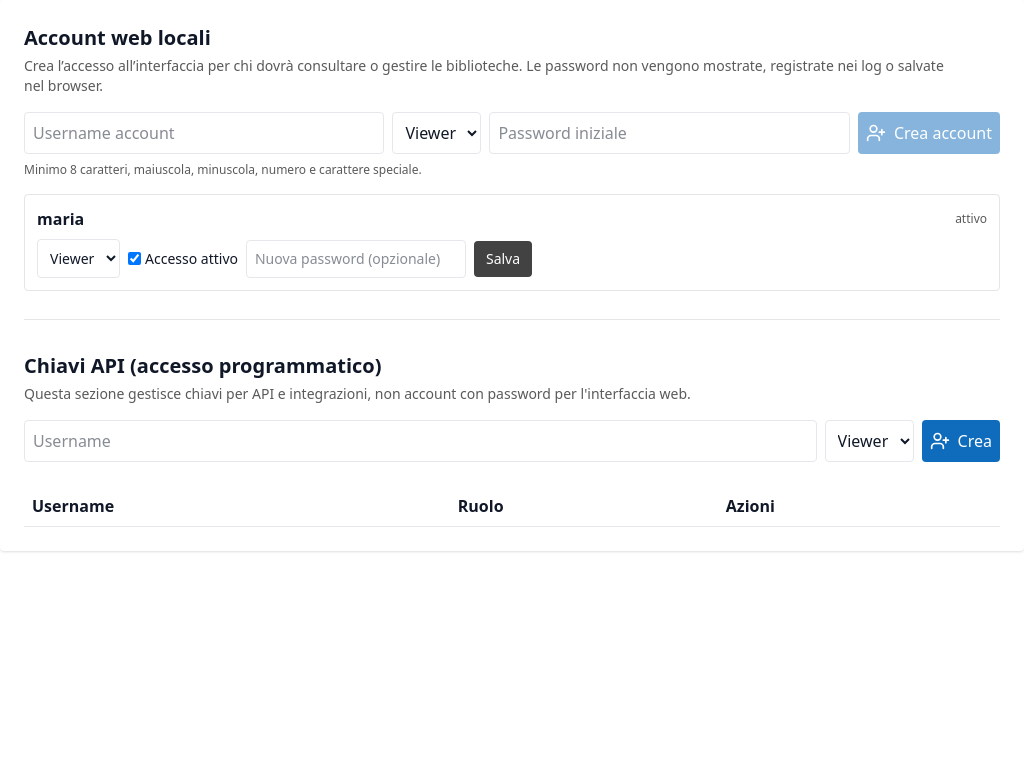
Test: UserManagement › updates a local account without exposing its new password in notifications
Expected: the text "maria" is shown, top-left (37, 207), bottom-right (84, 231)
Select "Editor" in the dropdown named "Ruolo di maria" at (78, 258), box top-left (37, 239), bottom-right (120, 278)
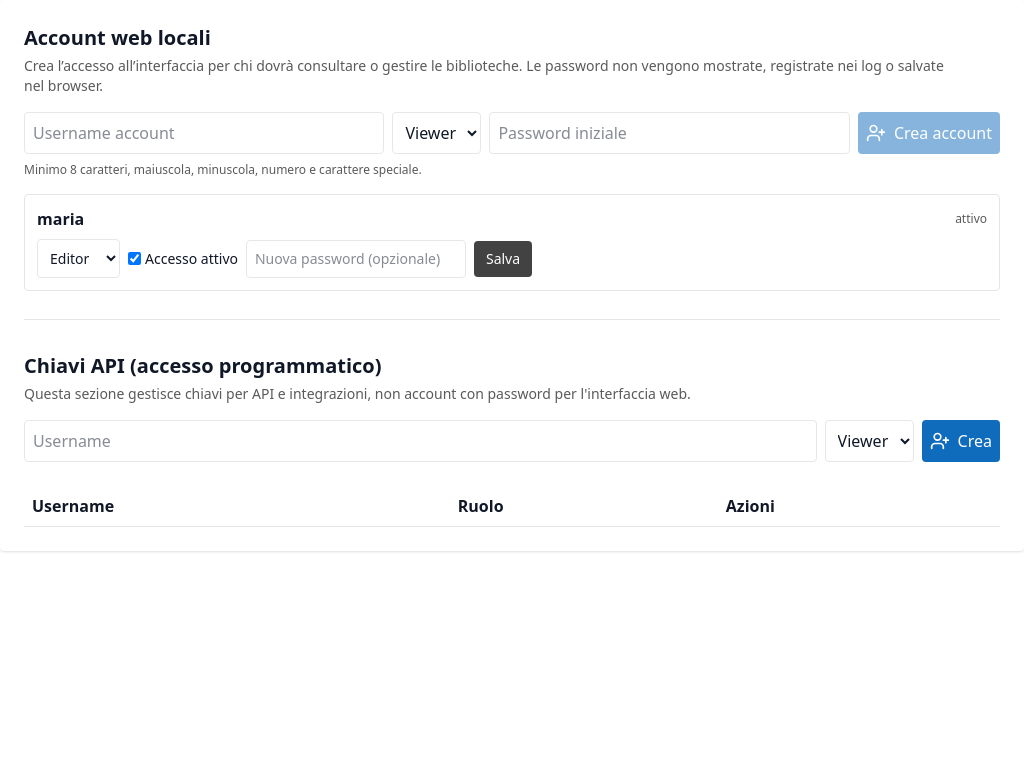
Click the checkbox named "Accesso attivo per maria" at (134, 258), box top-left (128, 252), bottom-right (141, 265)
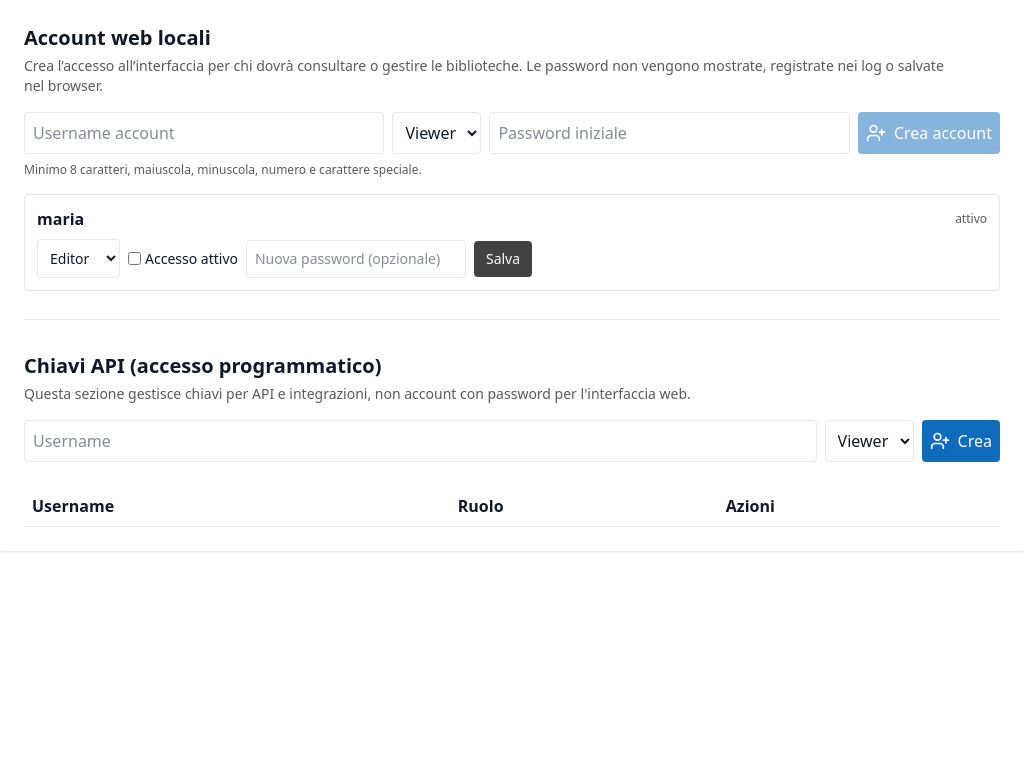
Type "ChangedUser!456" into the password field named "Nuova password per maria" at (356, 258), box top-left (246, 240), bottom-right (466, 278)
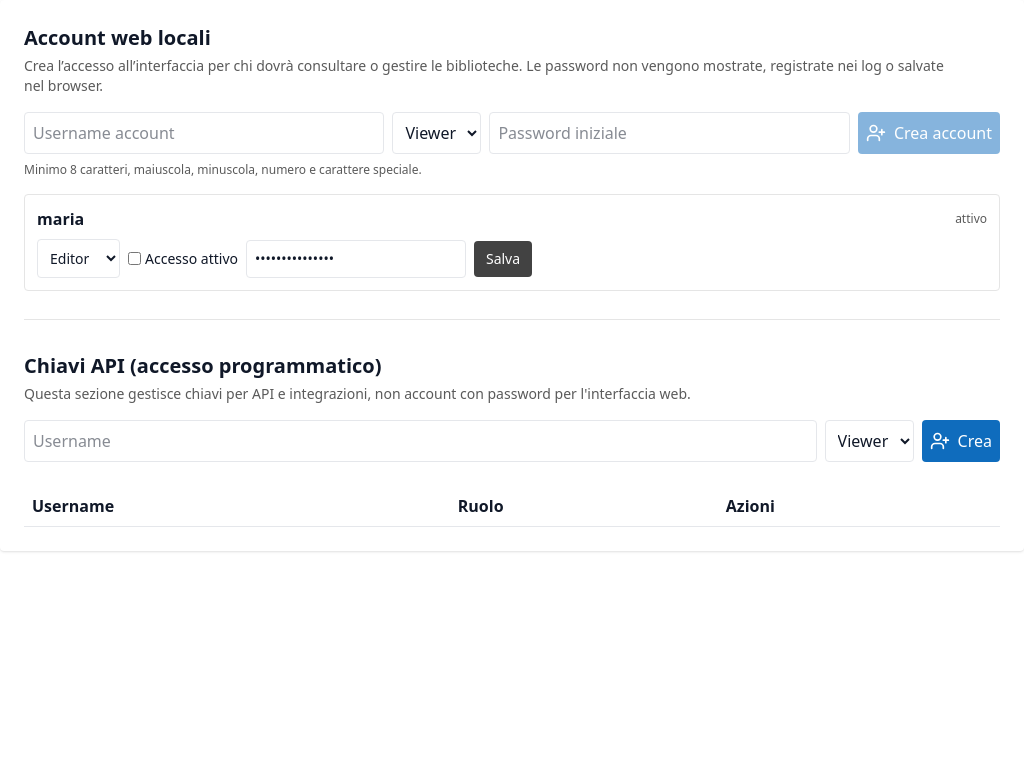
Click the button with aria-label "Salva account maria" at (503, 258), box top-left (474, 240), bottom-right (532, 276)
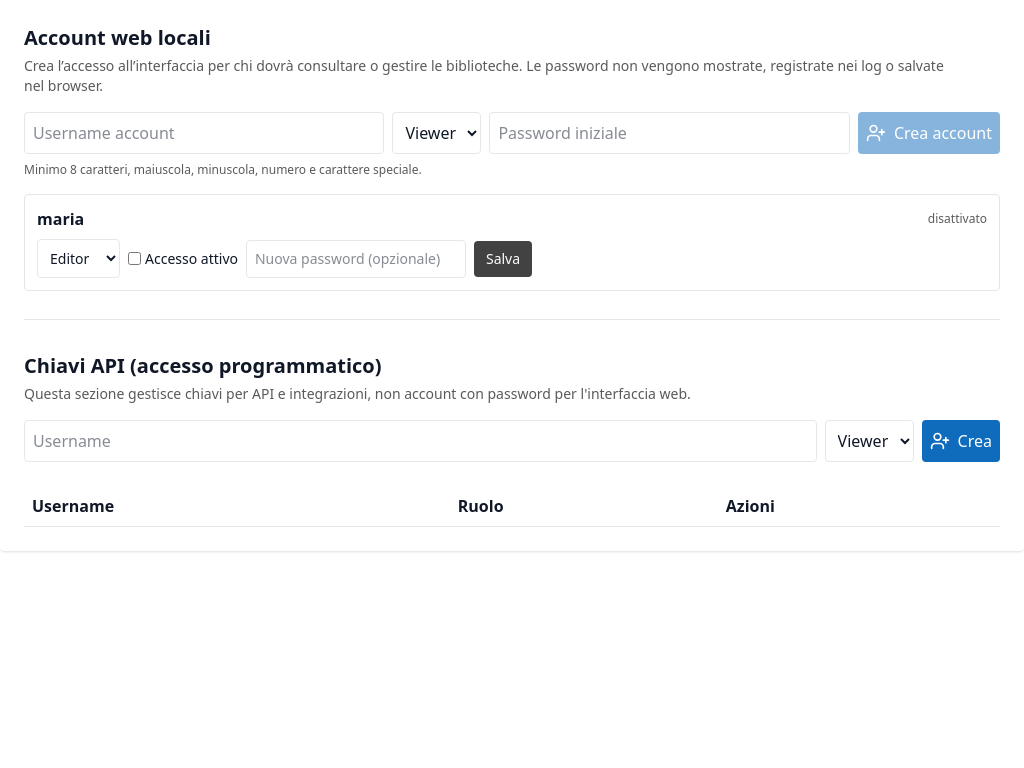
Expected: the text "disattivato" is shown, top-left (928, 211), bottom-right (987, 227)
